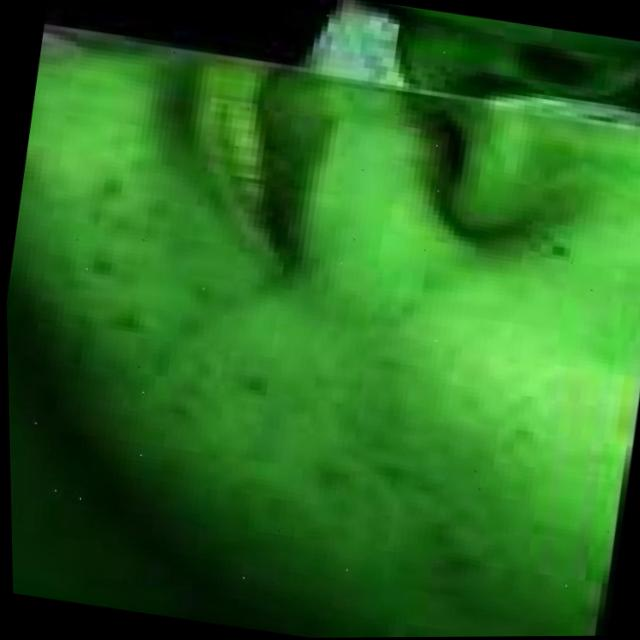Acne: (25, 193, 562, 619)
